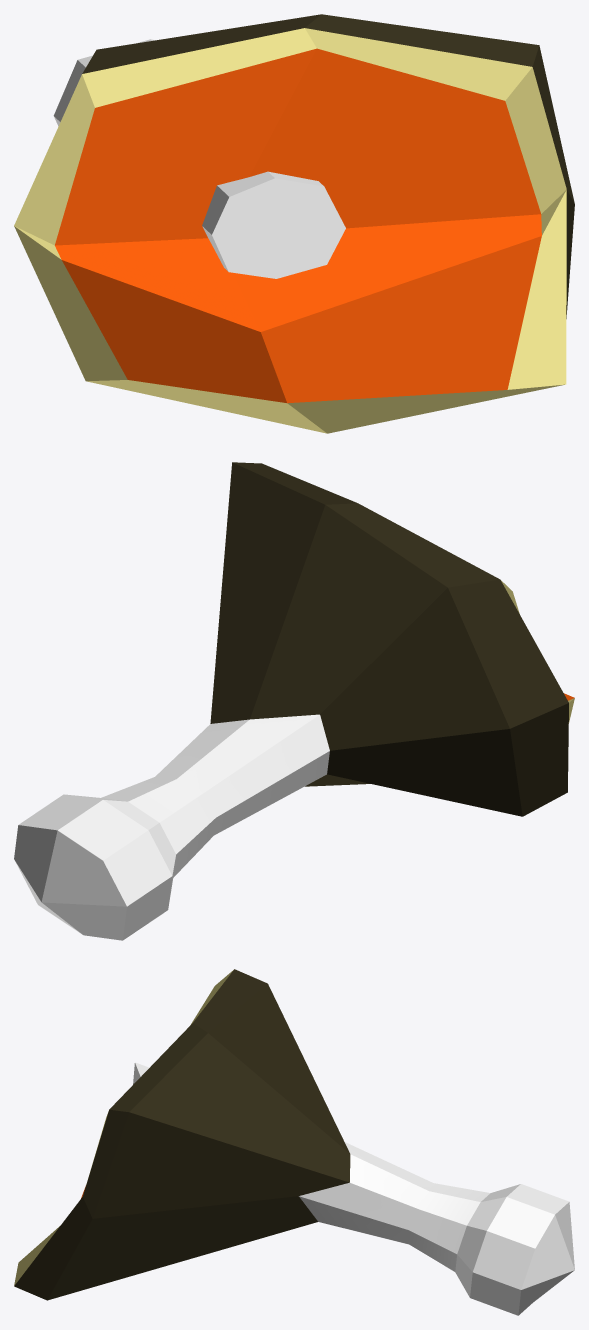
File: food_pork_fulleaten.fbx
3 views of the same model, one above another, from view 1: azimuth 30°, elevation 25°; view 2: azimuth 150°, elevation 25°; view 3: azimuth 270°, elevation 25° (orthographic). The views are drawn at different scales.
Parts seen in each view (by area): view 1: polySurface161; view 2: polySurface161; view 3: polySurface161.
Part boxes in pixels (x1,y1,x2,y2): polySurface161: [14, 14, 574, 433]; polySurface161: [14, 462, 574, 940]; polySurface161: [14, 969, 574, 1315].
Bounding box in the file's own units: 66.42 × 47.55 × 95.7.
Materials: 1 (1 with a texture image).
